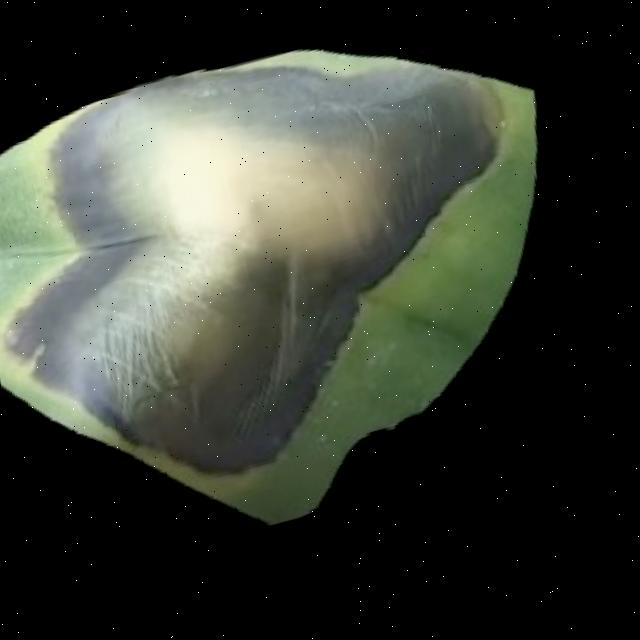mite: (366, 270, 481, 375), (397, 292, 478, 364), (307, 425, 339, 460), (356, 348, 388, 379)
